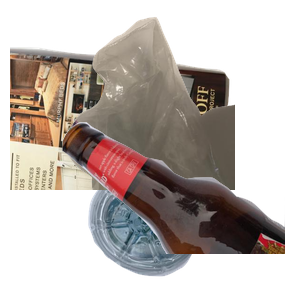glass: (60, 120, 300, 300)
paper: (10, 44, 232, 224)
plastic: (86, 163, 282, 300)
trash: (60, 14, 300, 194)
